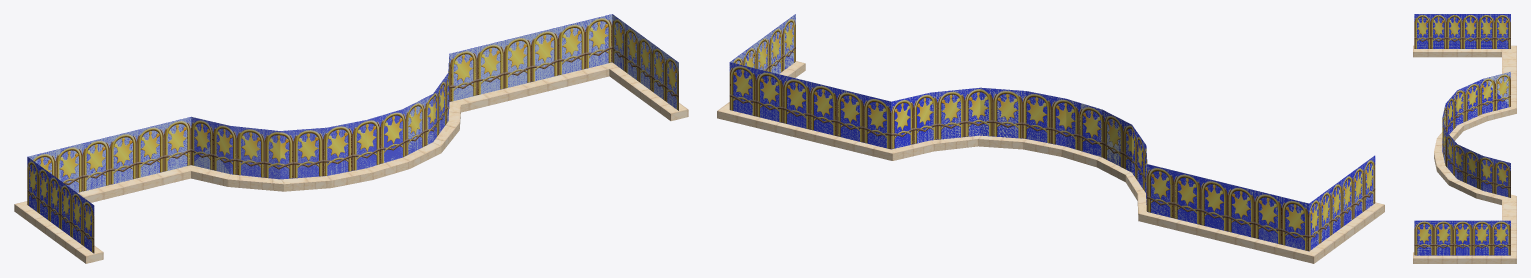
Rendered from sakucasino_bake.dae.
The picture shows the model from 3 angles, left to right: view 1: azimuth 30°, elevation 25°; view 2: azimuth 150°, elevation 25°; view 3: azimuth 270°, elevation 25°; orthographic projection. The views are drawn at different scales.
Parts seen in each view (by area): view 1: m1, m1_VC, m0; view 2: m1, m1_VC, m0; view 3: m1, m1_VC, m0.
Part boxes in pixels (bbox=[...]): m1: bbox=[27, 18, 678, 253]; m1_VC: bbox=[27, 14, 678, 253]; m0: bbox=[14, 62, 688, 263]; m1: bbox=[729, 19, 1375, 251]; m1_VC: bbox=[729, 14, 1375, 251]; m0: bbox=[717, 61, 1384, 263]; m1: bbox=[1414, 15, 1510, 255]; m1_VC: bbox=[1414, 14, 1510, 255]; m0: bbox=[1413, 45, 1516, 263].
Size of the model in its own units: 1700 by 150 by 350.
3 materials, 3 textured.
